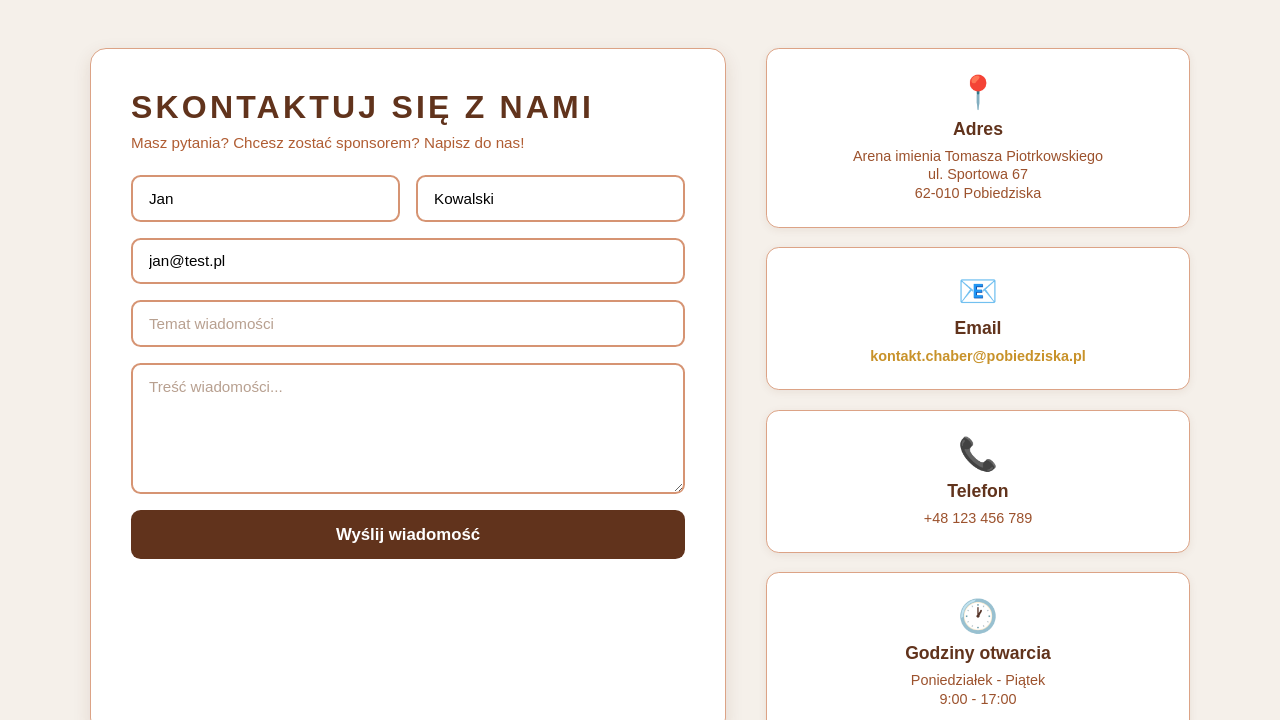
Test: ContactPage Tests › should submit form successfully
In the field with placeholder "Temat wiadomości": (408, 324) [131,300,685,347], type "Test"
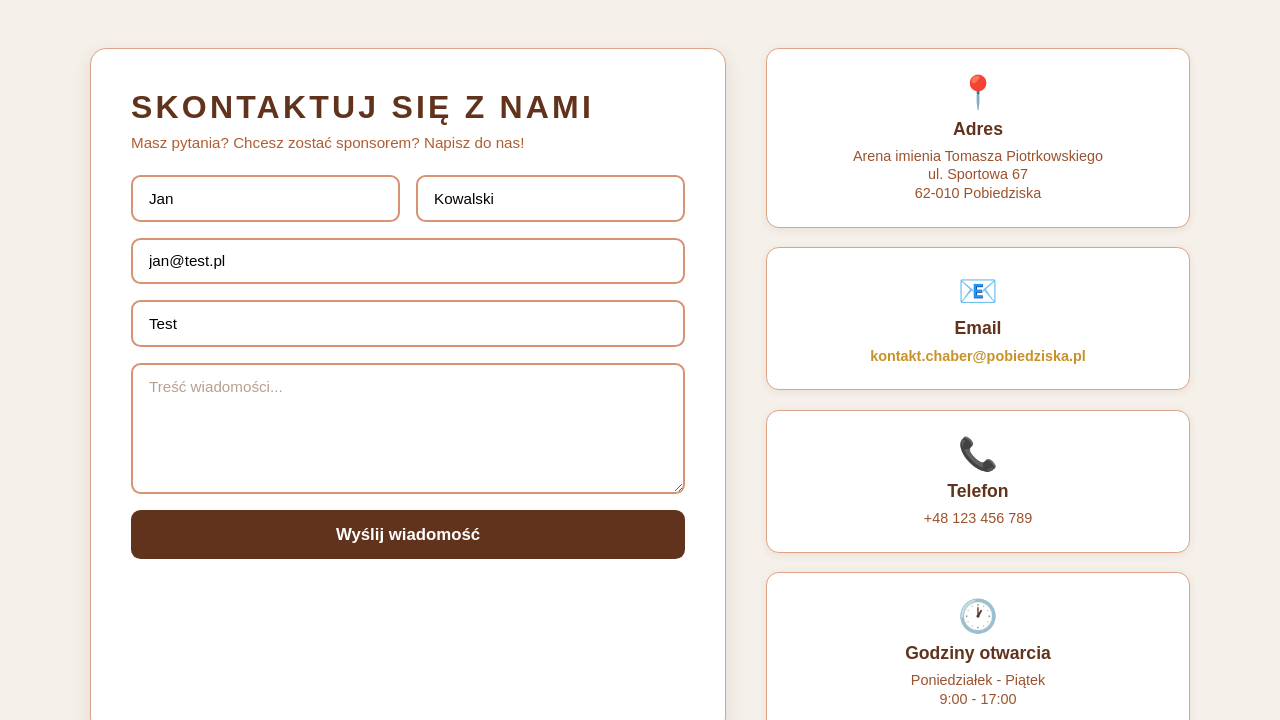
In the text box with placeholder "Treść wiadomości...": (408, 429) [131,363,685,494], type "Testowa wiadomość"
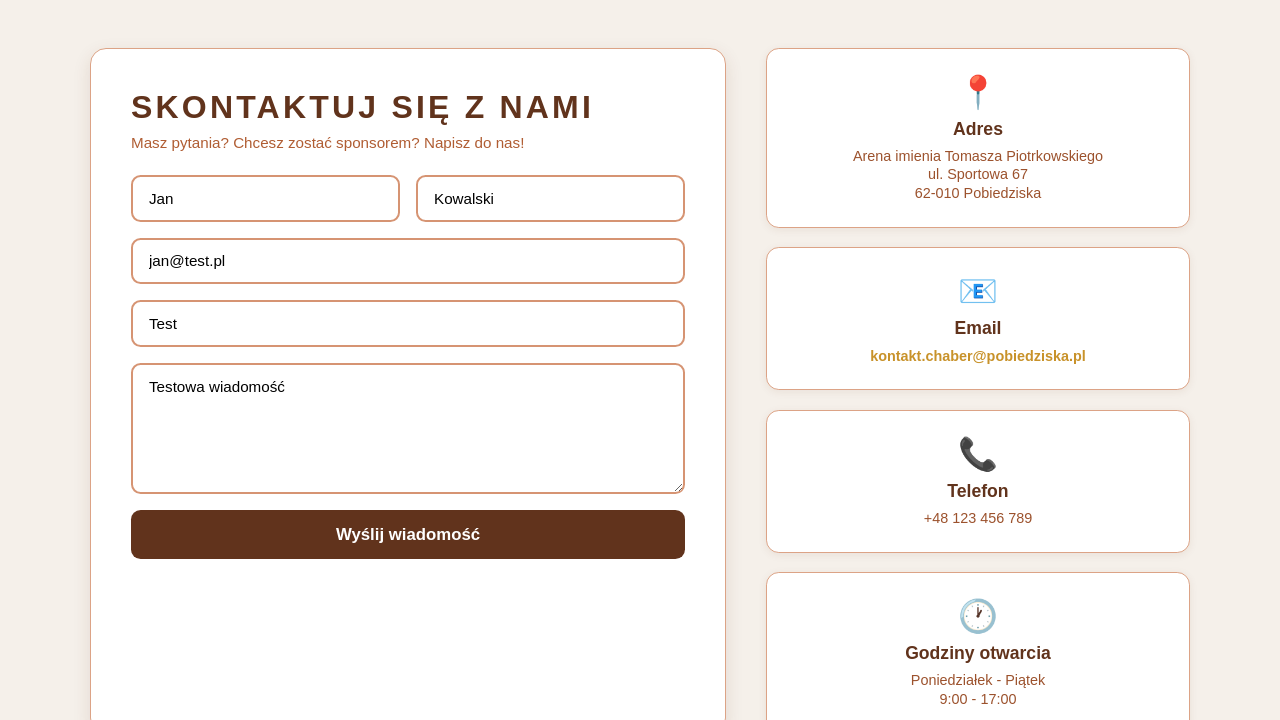
Click the button "Wyślij wiadomość": (408, 535) [131,510,685,559]
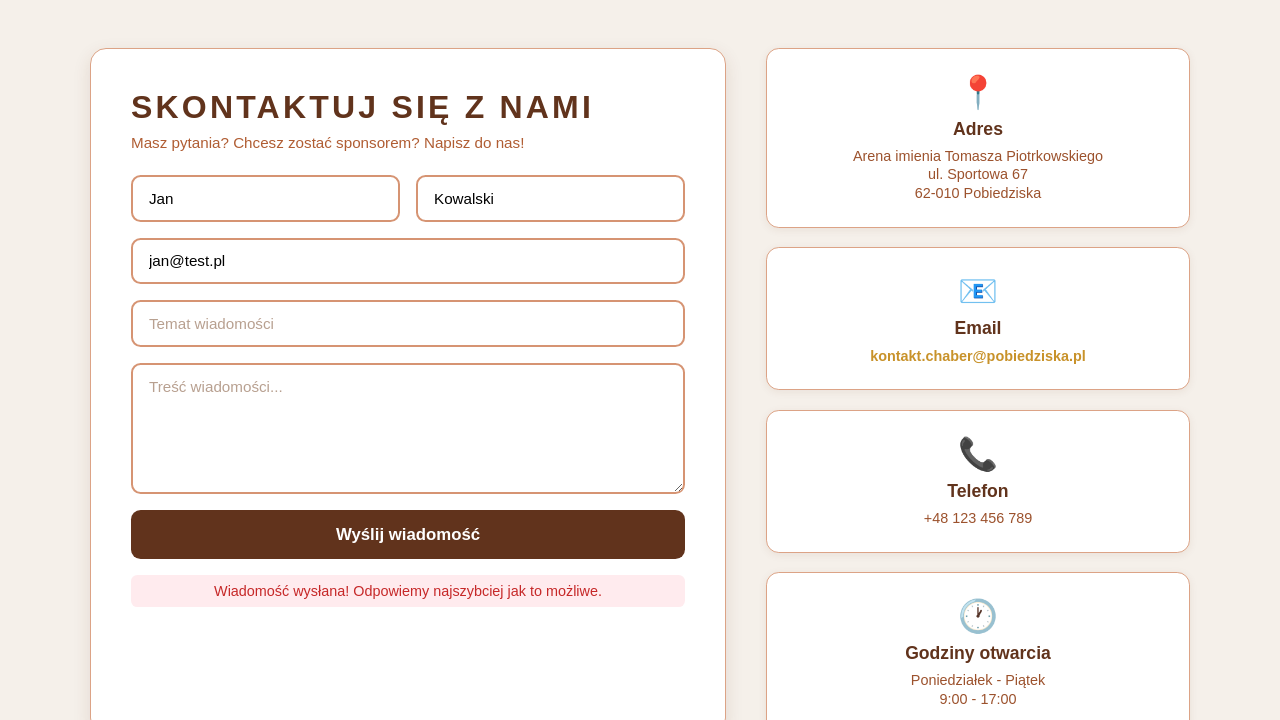
Check: the text "Wiadomość wysłana! Odpowiemy najszybciej jak to możliwe." is shown, box [131,575,685,607]
